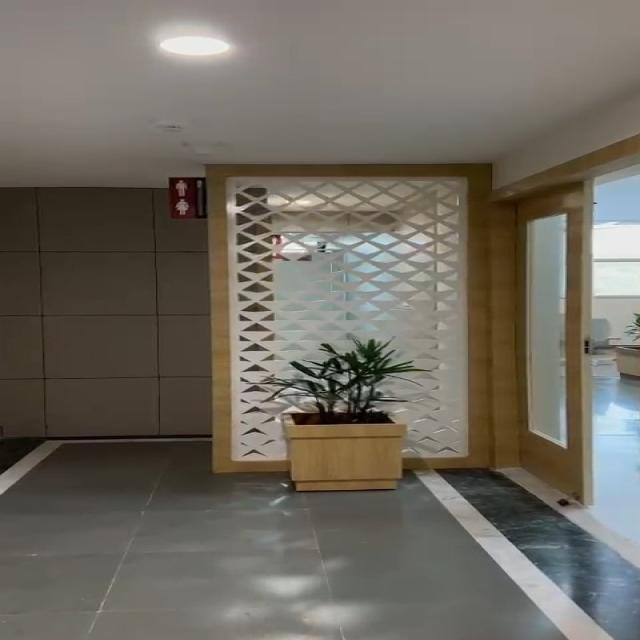door: (482, 186, 594, 489)
floor: (0, 482, 636, 640)
furniture: (259, 331, 415, 498)
